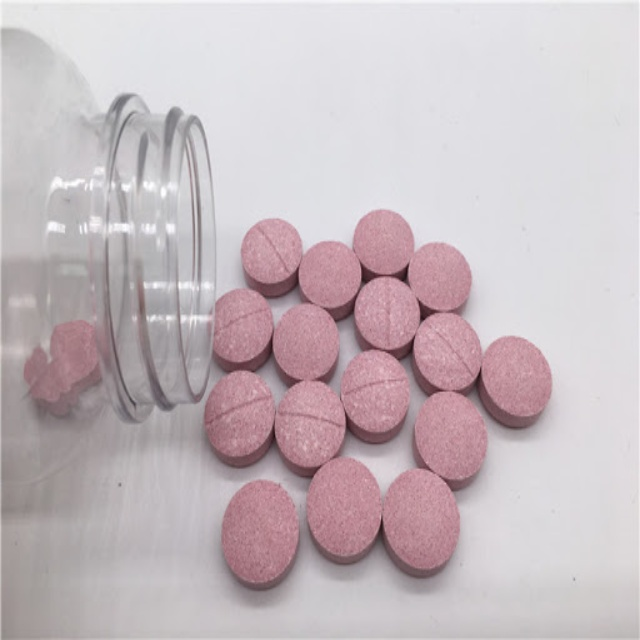pill: (176, 274, 239, 339), (303, 268, 366, 329), (248, 261, 307, 321), (331, 224, 391, 281), (161, 212, 219, 266), (220, 218, 276, 273), (271, 201, 329, 252), (385, 191, 439, 244), (23, 184, 78, 234), (166, 164, 220, 211), (329, 177, 381, 224), (220, 174, 274, 219), (191, 124, 243, 168), (283, 159, 336, 202), (326, 139, 381, 177), (240, 137, 288, 179), (283, 120, 331, 158)
